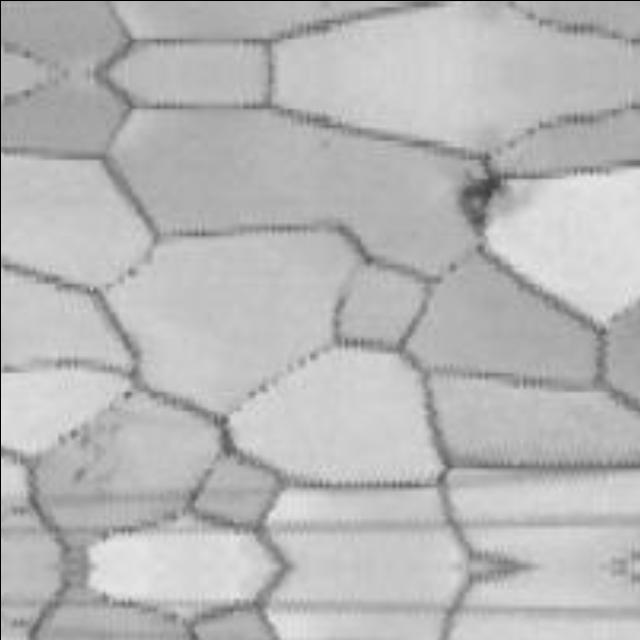good_void: (442, 159, 508, 237)
